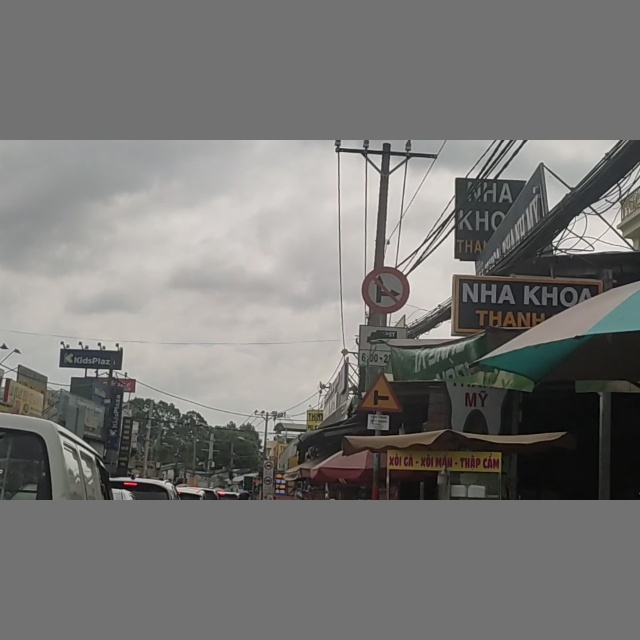P.139: (363, 267, 408, 311)
S.505a*Xe tai: (360, 325, 402, 363)
W.205b: (357, 373, 401, 411)
